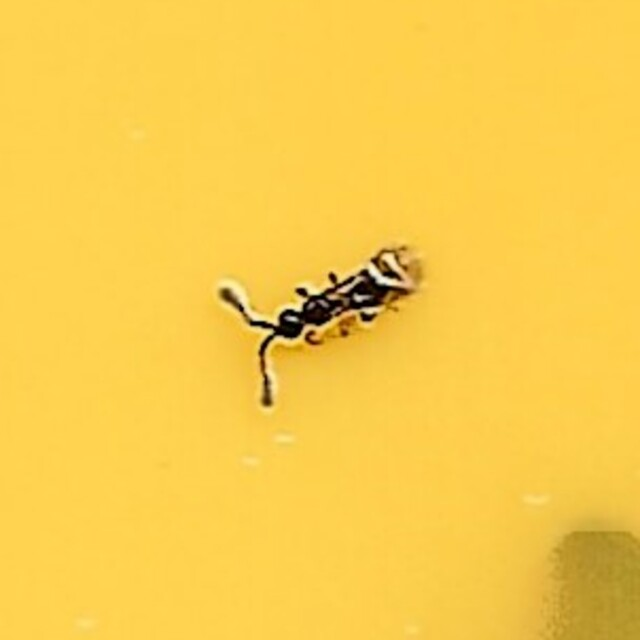Hymenoptera: (212, 236, 428, 404)
